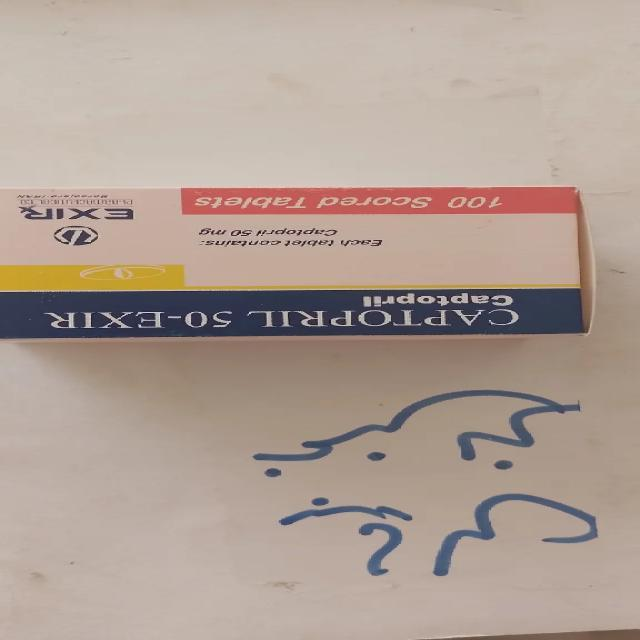drug-name: (38, 306, 520, 331)
